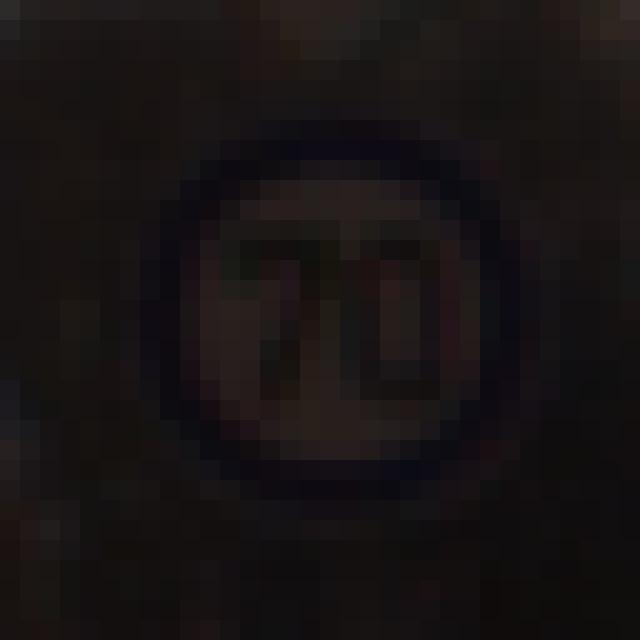SPEED LIMIT 70: (155, 137, 528, 496)
